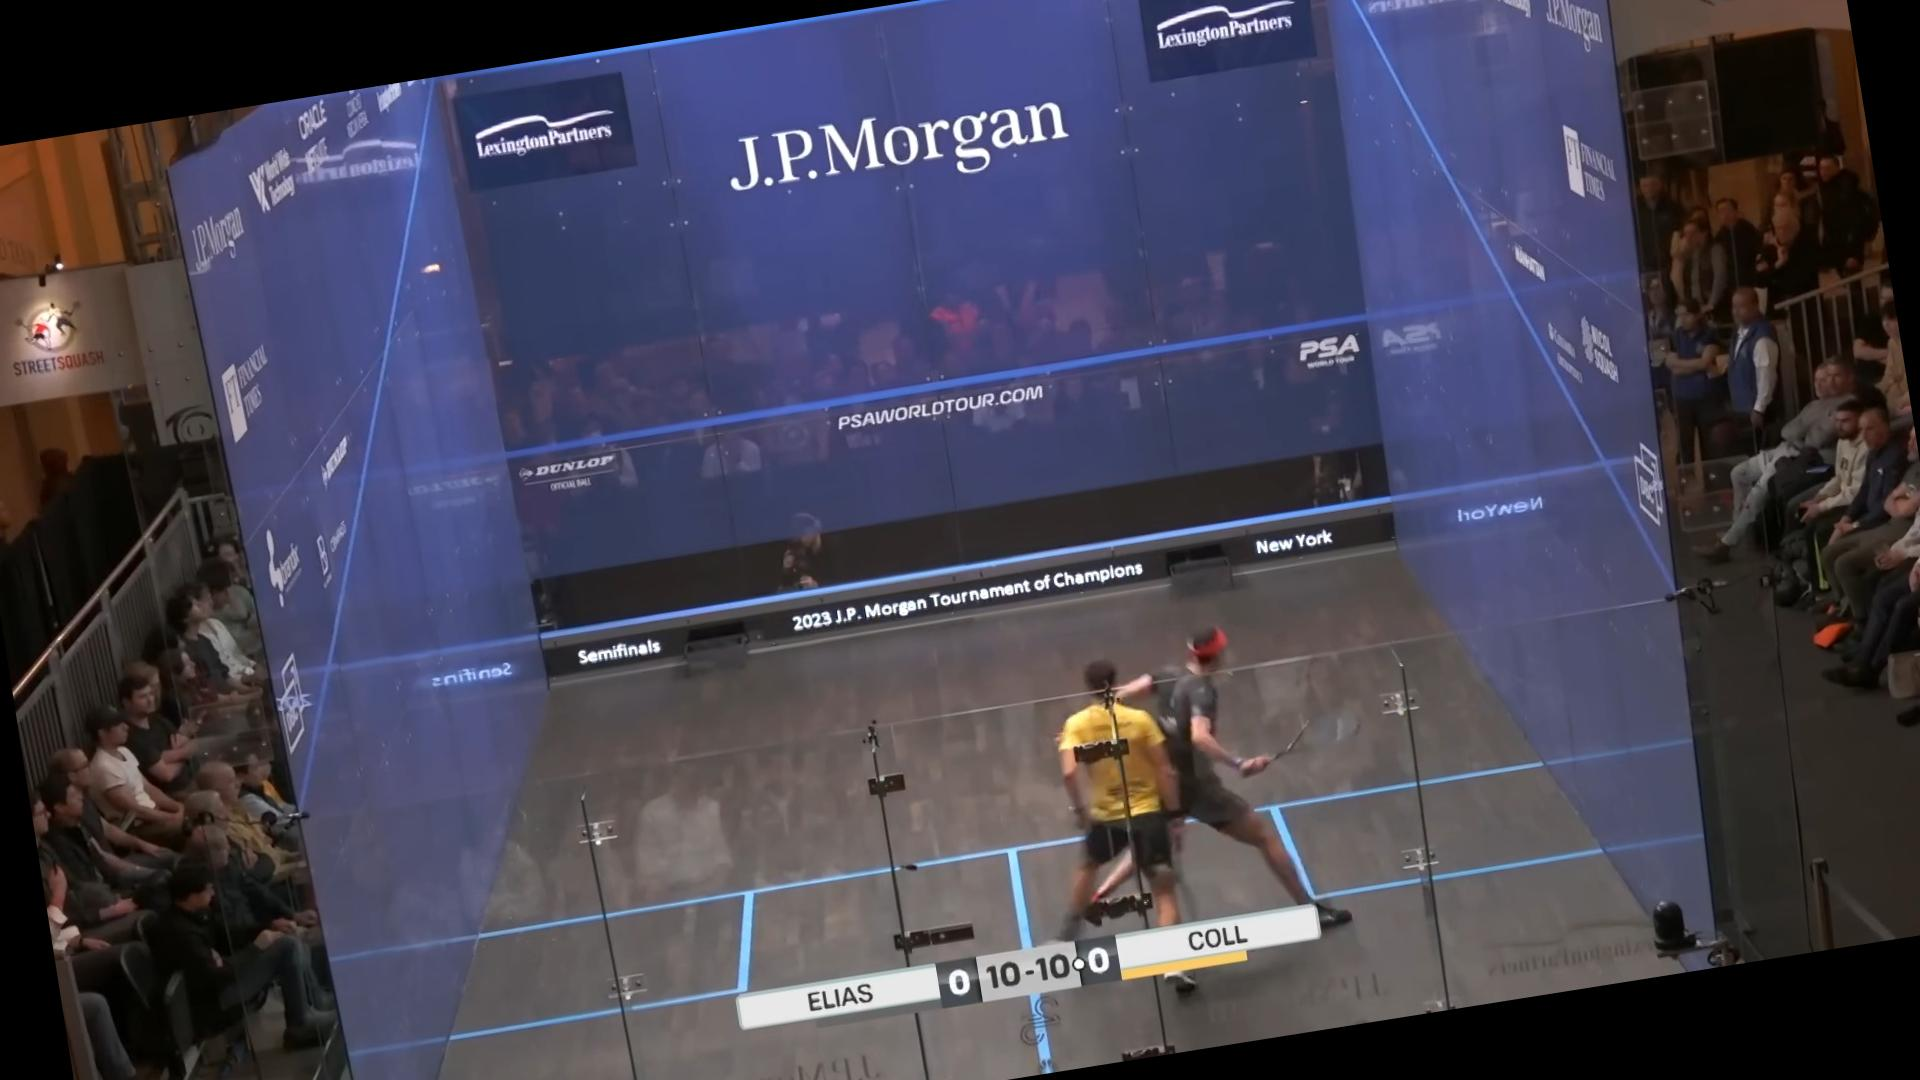Racket: (1246, 691, 1377, 771)
